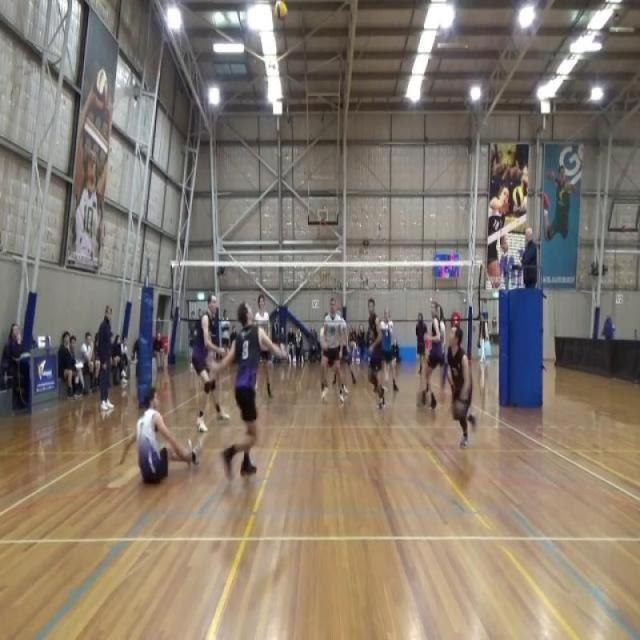volleyball: (92, 66, 110, 110), (272, 1, 289, 28), (512, 186, 526, 210)
